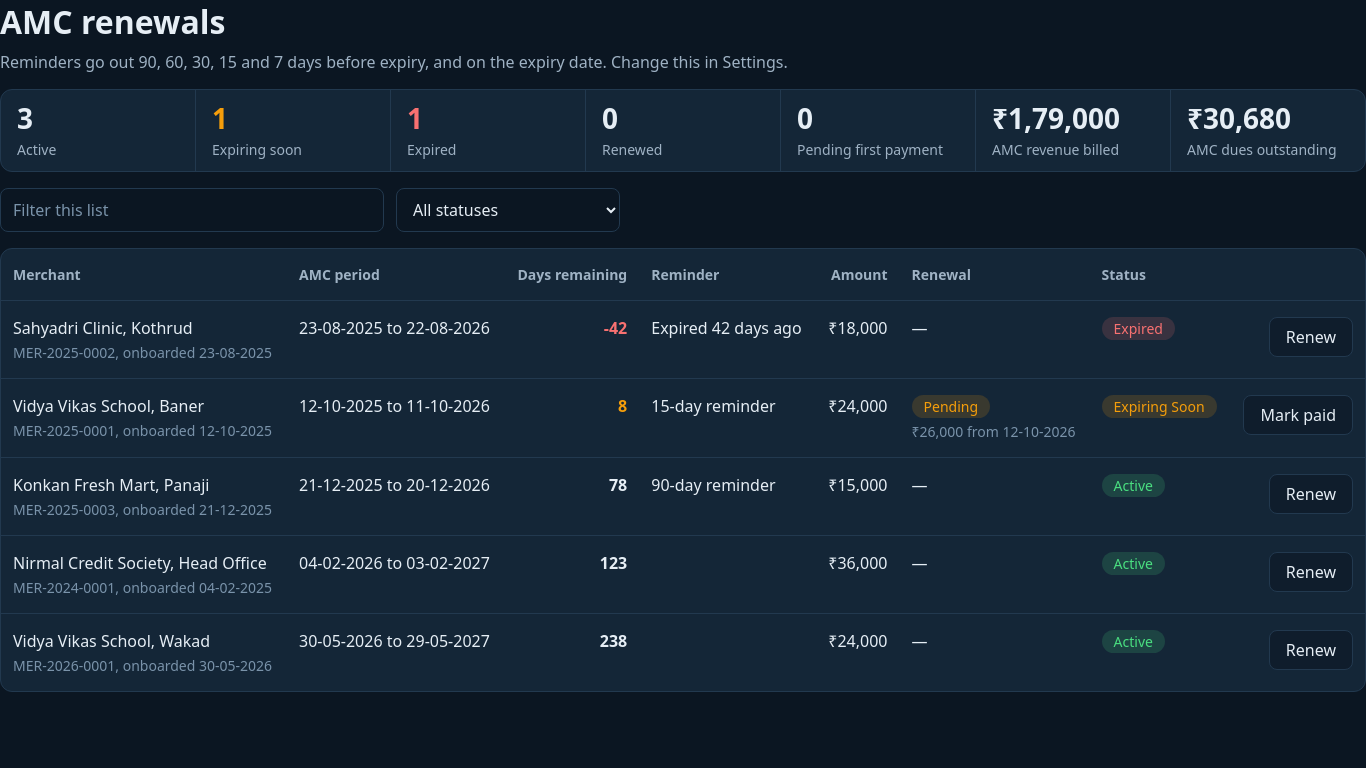
Merchant detail panel › opens from the merchant name with lifecycle, actions and overview
Click the button "Sahyadri Clinic, Kothrud" at (103, 328), box [13,317,193,339]
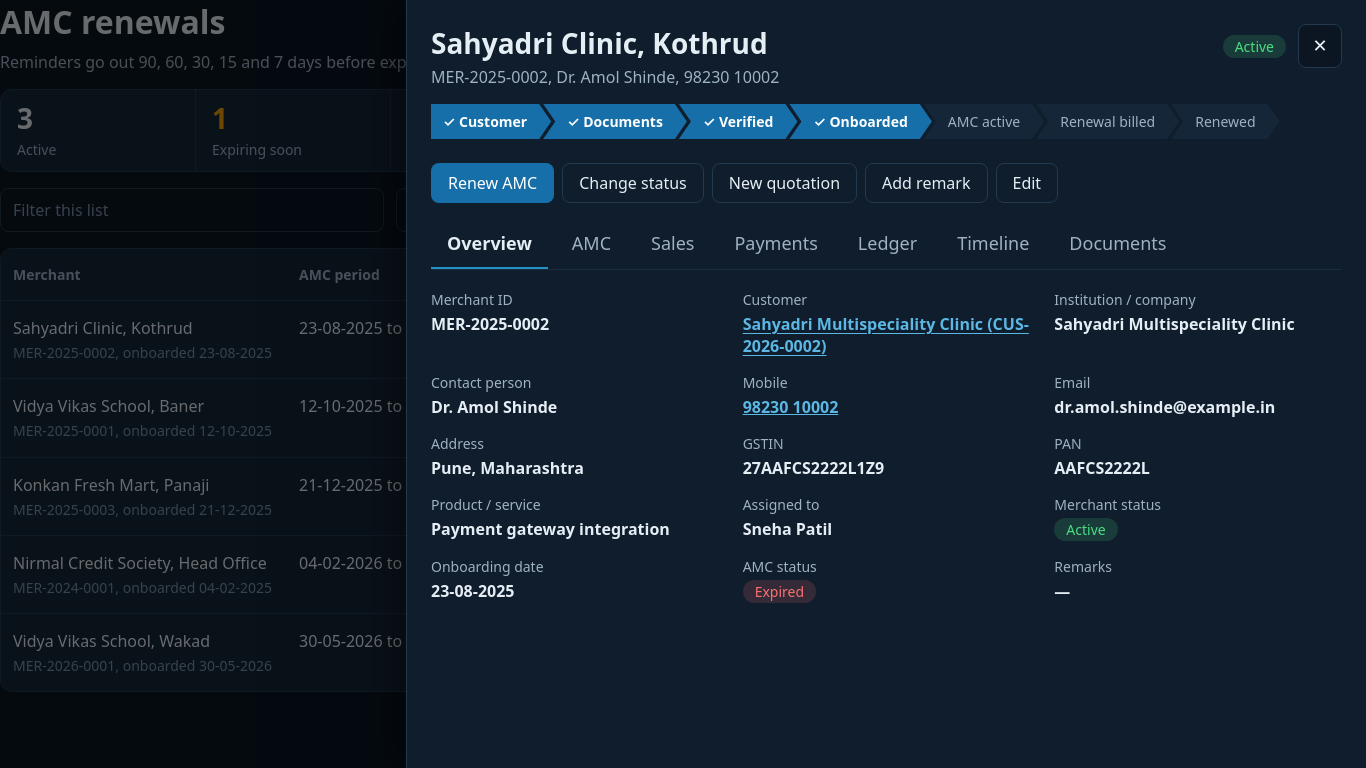
Expected: the dialog "Sahyadri Clinic, Kothrud" shows "MER-2025-0002, Dr. Amol Shinde, 98230 10002"
